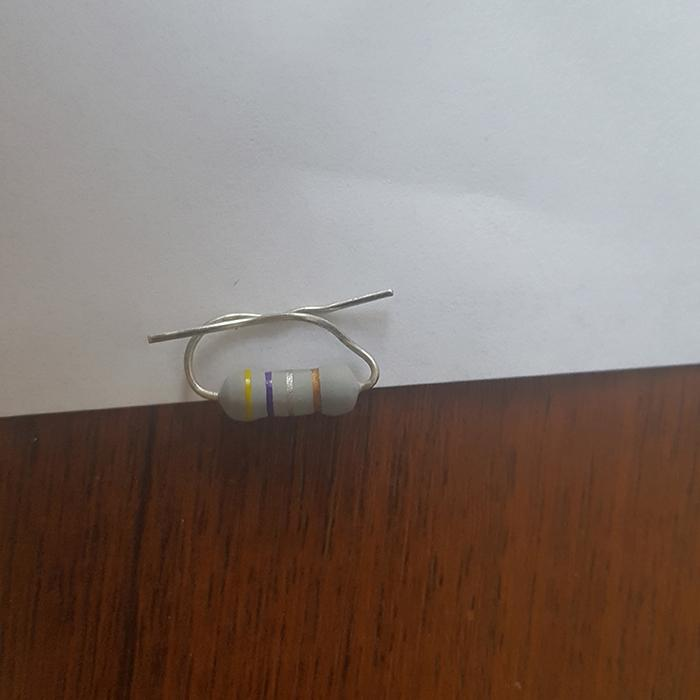resistor: (218, 361, 367, 420)
